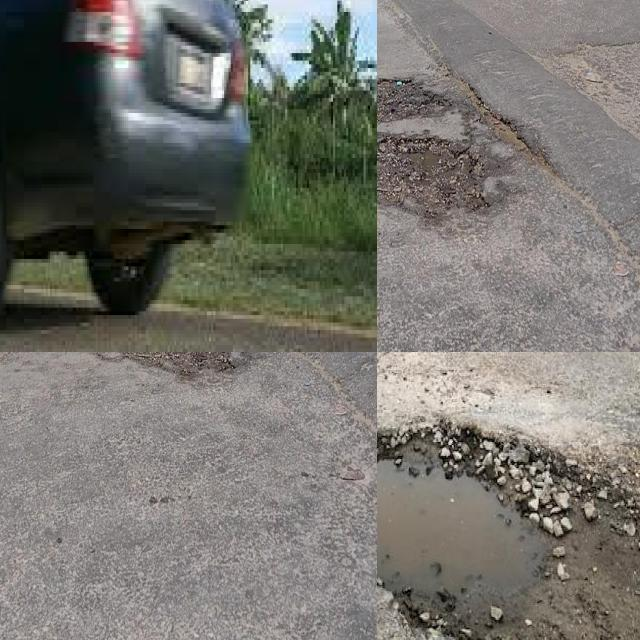Pothole: (377, 419, 640, 640), (377, 137, 484, 219), (114, 352, 236, 380), (377, 77, 437, 120)
